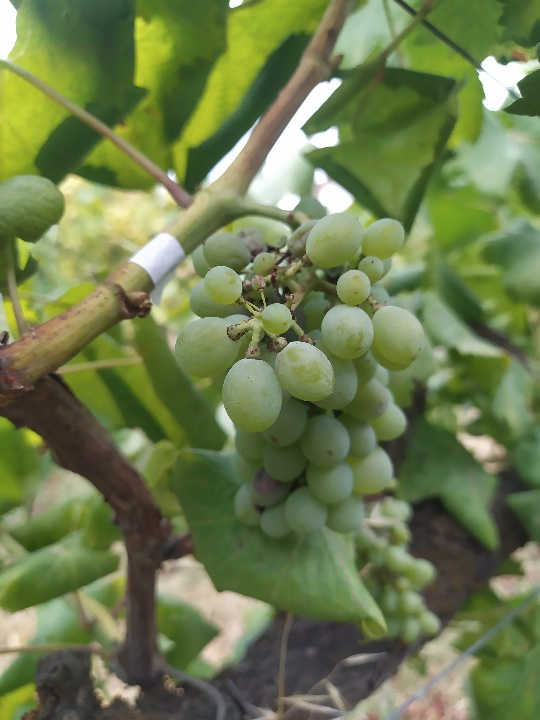grape: (171, 206, 432, 540)
